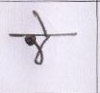e_matra: (32, 10, 52, 34)
